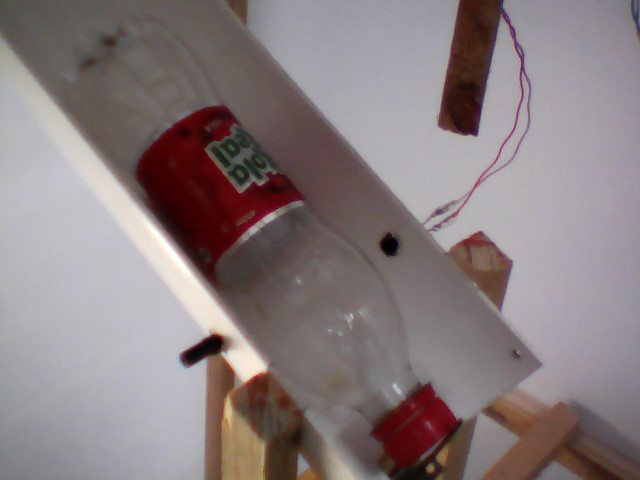plastico: (45, 2, 464, 472)
